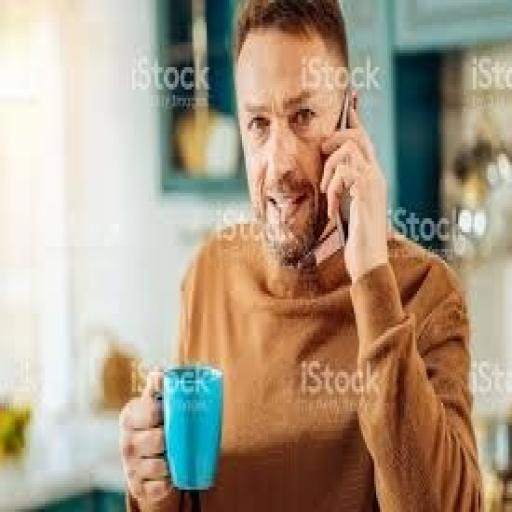calling: (115, 0, 486, 509)
